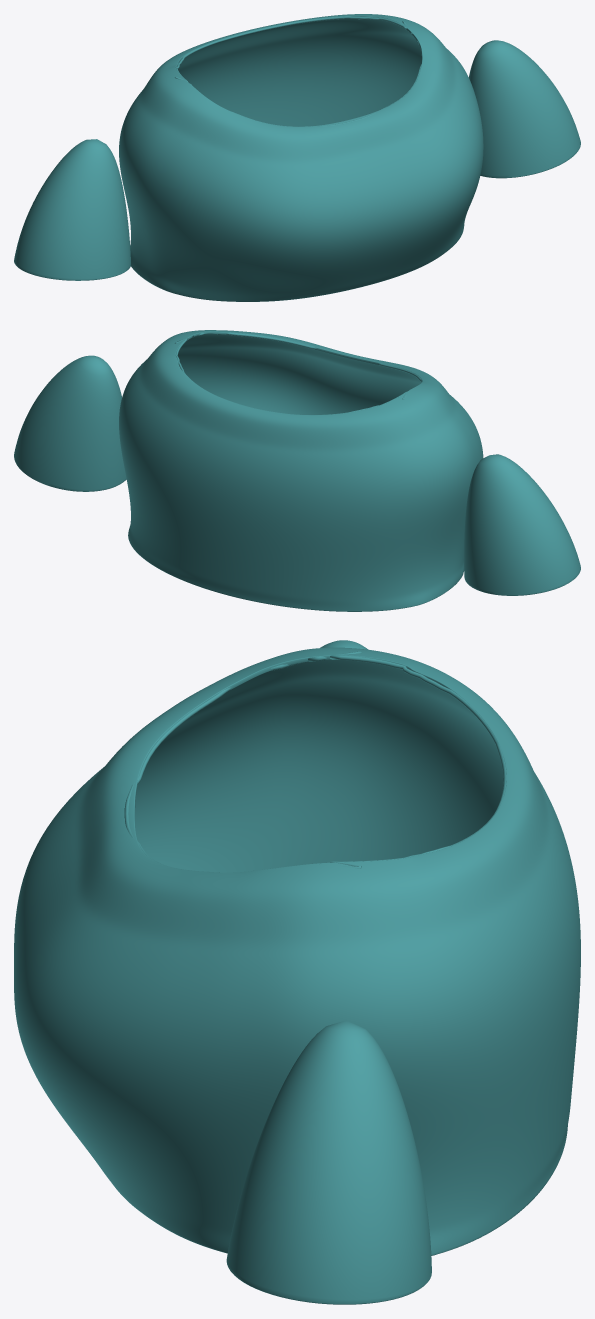
File: Feminine-tshirt-top.glb
3 renders of one model, top to bottom at view 1: azimuth 30°, elevation 25°; view 2: azimuth 150°, elevation 25°; view 3: azimuth 270°, elevation 25°, orthographic. The views are drawn at different scales.
Parts seen in each view (by area): view 1: Clothing / closed torso201 tshirt.001, Sleeve / full fabric wrap201 -1.001, Sleeve / full fabric wrap201 1.001, Neckline / seated181.001; view 2: Clothing / closed torso201 tshirt.001, Sleeve / full fabric wrap201 -1.001, Sleeve / full fabric wrap201 1.001, Neckline / seated181.001; view 3: Clothing / closed torso201 tshirt.001, Sleeve / full fabric wrap201 1.001, Neckline / seated181.001.
Part boxes in pixels (<box>): Clothing / closed torso201 tshirt.001: <box>119,14,483,301</box>; Sleeve / full fabric wrap201 -1.001: <box>14,139,130,280</box>; Sleeve / full fabric wrap201 1.001: <box>469,40,580,177</box>; Neckline / seated181.001: <box>175,16,421,126</box>; Clothing / closed torso201 tshirt.001: <box>119,330,483,611</box>; Sleeve / full fabric wrap201 -1.001: <box>464,454,580,595</box>; Sleeve / full fabric wrap201 1.001: <box>14,355,126,491</box>; Neckline / seated181.001: <box>175,332,421,414</box>; Clothing / closed torso201 tshirt.001: <box>14,647,580,1255</box>; Sleeve / full fabric wrap201 1.001: <box>226,1020,431,1303</box>; Neckline / seated181.001: <box>124,651,506,872</box>.
Size of the model in its own units: 1.04 by 0.3381 by 0.4771.
